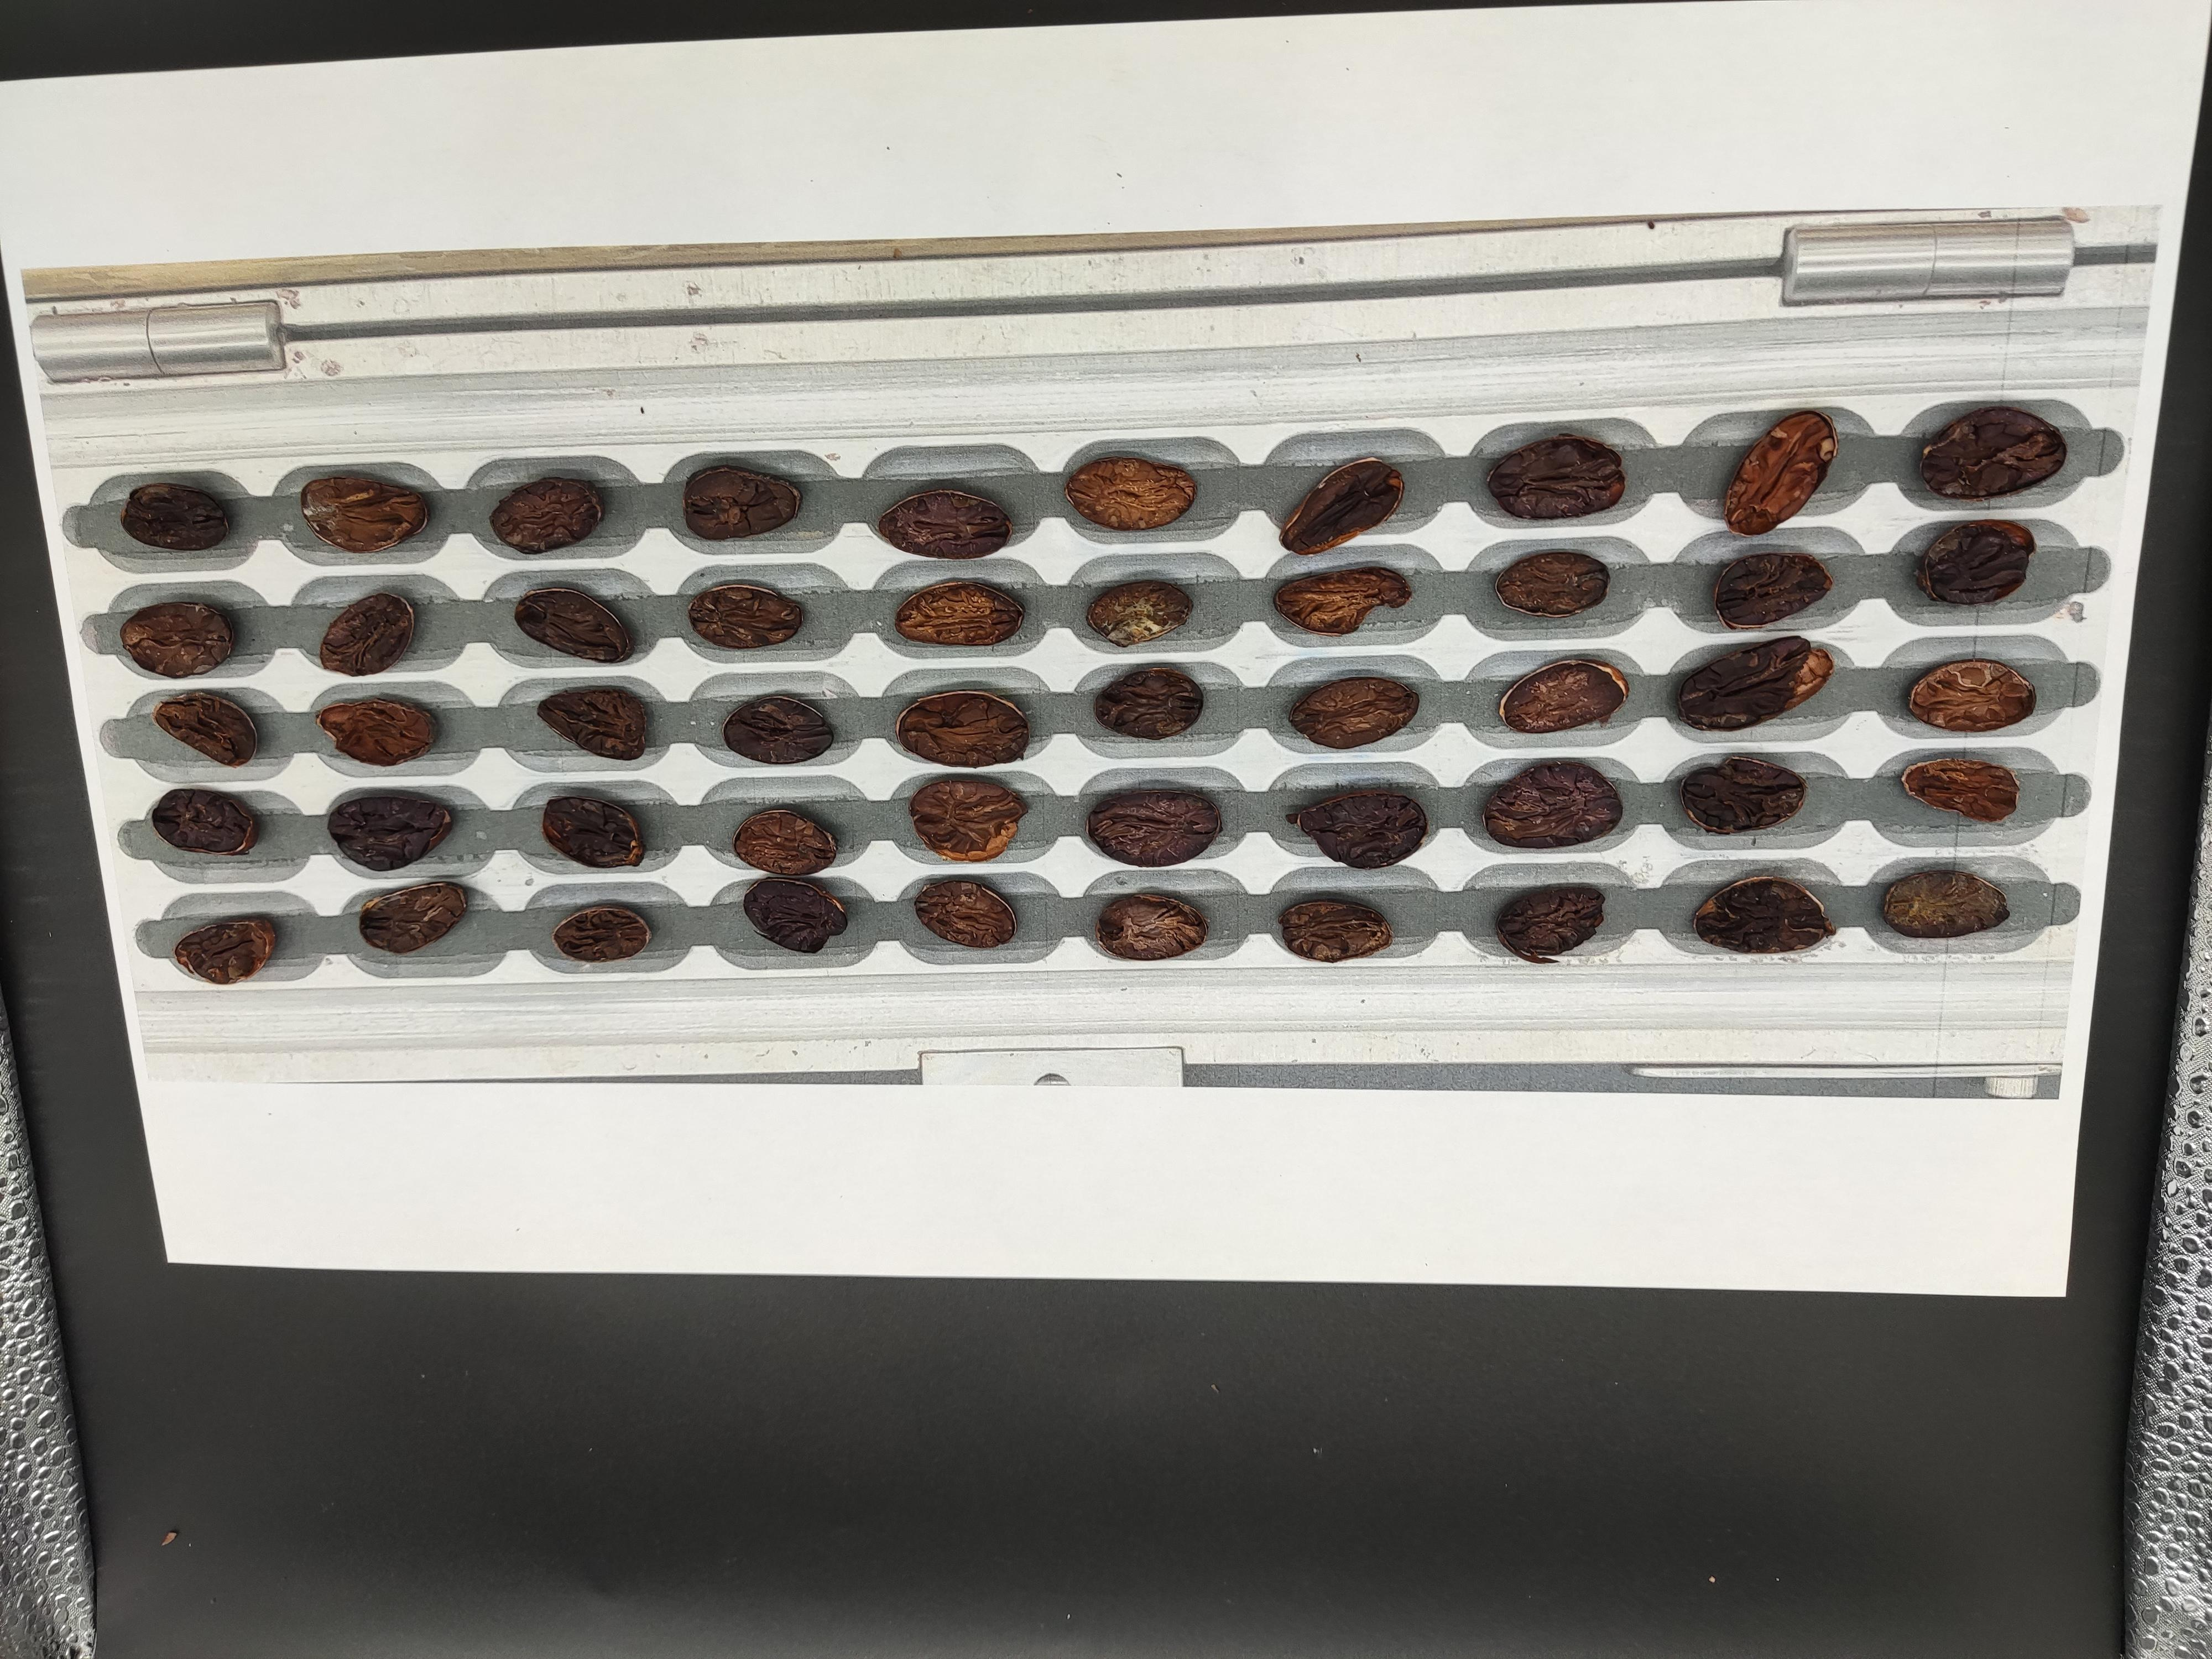Brown - G1: (1959, 1018, 2029, 1089), (1541, 1206, 1611, 1255), (2052, 1192, 2120, 1237), (1430, 1103, 1496, 1147), (1730, 1267, 1799, 1307)
Brown - G2: (2055, 1145, 2127, 1190), (1728, 1096, 1804, 1138), (1165, 1274, 1230, 1321), (1238, 1164, 1310, 1206), (1353, 1157, 1416, 1204), (1534, 1105, 1609, 1143), (1543, 1256, 1604, 1298)
Brown - G3: (1735, 1154, 1811, 1201), (1534, 1161, 1613, 1206), (1622, 1040, 1696, 1086), (1139, 1114, 1207, 1162), (1327, 1051, 1395, 1096), (1635, 1263, 1705, 1303), (1157, 1159, 1216, 1206), (1259, 1258, 1325, 1300), (1451, 1220, 1514, 1263), (1242, 1110, 1296, 1161)
Brown - G4: (1839, 1091, 1907, 1127)
Insect-damaged: (2041, 1249, 2113, 1297)
Mouldy: (1230, 1047, 1303, 1098), (1634, 1105, 1693, 1143)
Partly Purple - G1: (1935, 1194, 2008, 1241), (1952, 1089, 2020, 1136)
Partly Purple - G2: (1836, 1028, 1918, 1082), (1834, 1197, 1914, 1248)
Partly Purple - G3: (1526, 1058, 1601, 1100)
Partly Purple - G4: (1844, 1143, 1918, 1188)
Total Purple - G2: (1244, 1211, 1317, 1260)
Total Purple - G3: (1740, 1213, 1815, 1260), (1634, 1211, 1710, 1255), (1456, 1255, 1519, 1302), (1153, 1209, 1219, 1253)
Very Dark Brown - G1: (1932, 1134, 2024, 1187), (2059, 1072, 2125, 1126), (1944, 1256, 2020, 1302), (1360, 1270, 1418, 1307)
Very Dark Brown - G2: (2057, 1014, 2142, 1070), (1731, 1042, 1803, 1100), (1139, 1053, 1204, 1100), (1635, 1148, 1700, 1194), (1841, 1262, 1905, 1305), (1353, 1213, 1413, 1258)
Very Dark Brown - G3: (1426, 1044, 1494, 1091), (1341, 1107, 1409, 1154), (1446, 1164, 1510, 1204)
